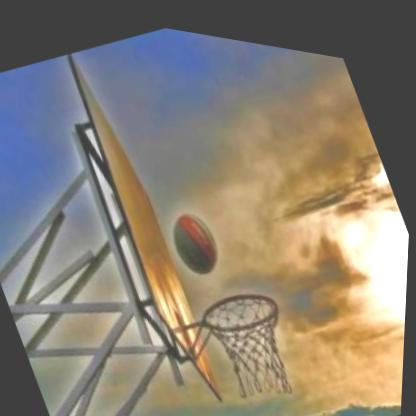basketball: (160, 188, 233, 283)
